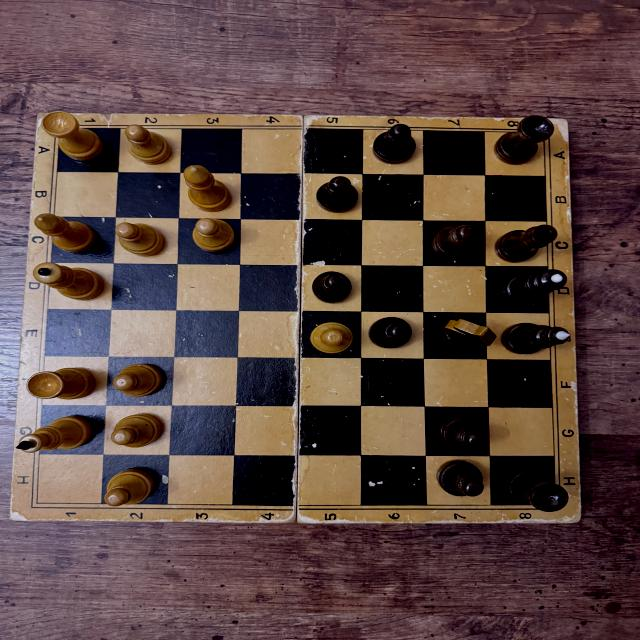black-bishop: (493, 223, 557, 264)
black-king: (502, 322, 572, 355)
black-knight: (434, 315, 497, 353)
black-pawn: (437, 414, 490, 454), (436, 458, 487, 499), (371, 123, 419, 164), (433, 224, 481, 261), (316, 175, 360, 212), (368, 316, 414, 350), (312, 269, 353, 303)
black-queen: (501, 268, 569, 306)
black-rook: (501, 464, 568, 514), (494, 116, 555, 166)
white-bishop: (32, 210, 99, 254), (182, 164, 235, 214)
white-king: (16, 414, 94, 454)
white-pawn: (126, 124, 171, 166), (111, 364, 165, 397), (116, 222, 167, 256), (111, 415, 162, 448), (190, 218, 238, 253), (102, 473, 154, 505), (312, 322, 352, 354)
white-queen: (33, 262, 107, 302)
white-rook: (42, 112, 104, 162), (28, 368, 95, 400)
